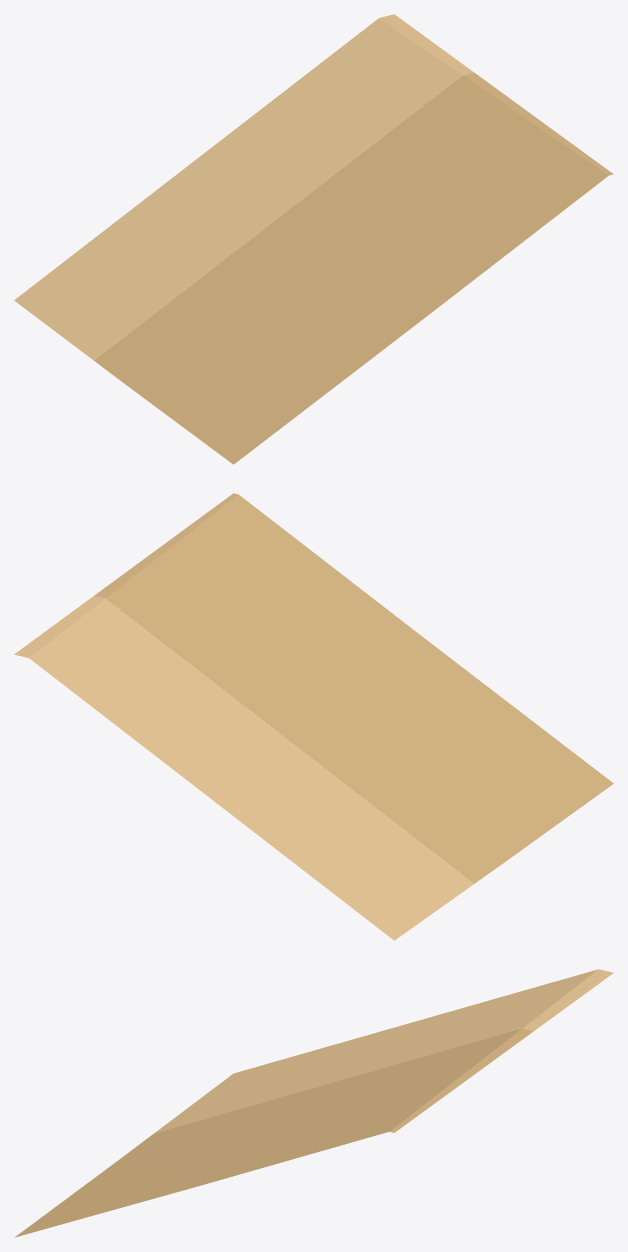
3 views of the same model, one above another, from view 1: azimuth 30°, elevation 25°; view 2: azimuth 150°, elevation 25°; view 3: azimuth 330°, elevation 25° (orthographic).
Bounding box in the file's own units: 1 × 0.4963 × 1.
1 material, 1 textured.
